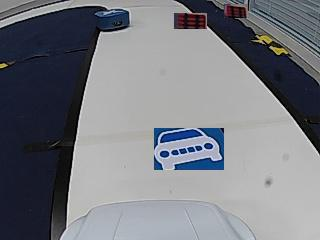prop: (95, 9, 129, 32)
